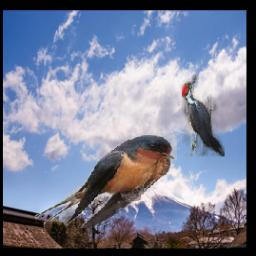Swallow: (34, 133, 176, 228)
Woodpecker: (181, 74, 224, 156)
